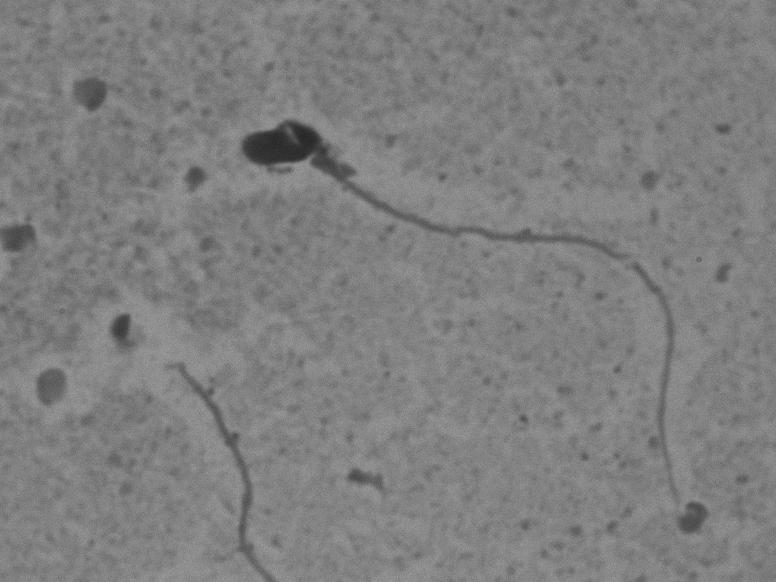Abnormal: (217, 105, 695, 541)
